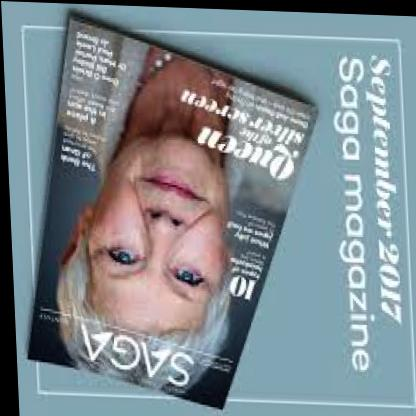Paper: (0, 0, 328, 416)
